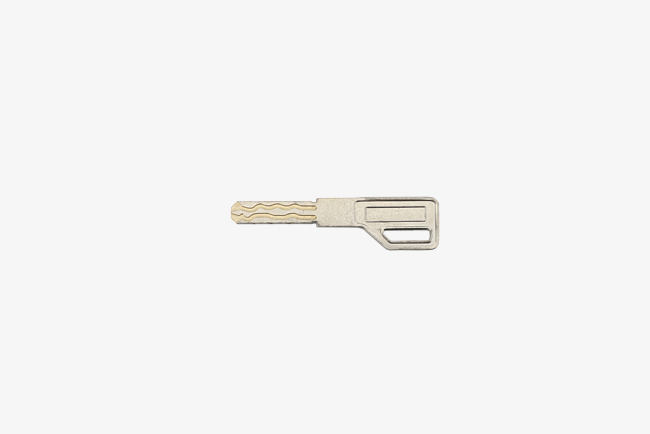key: (223, 187, 450, 257)
